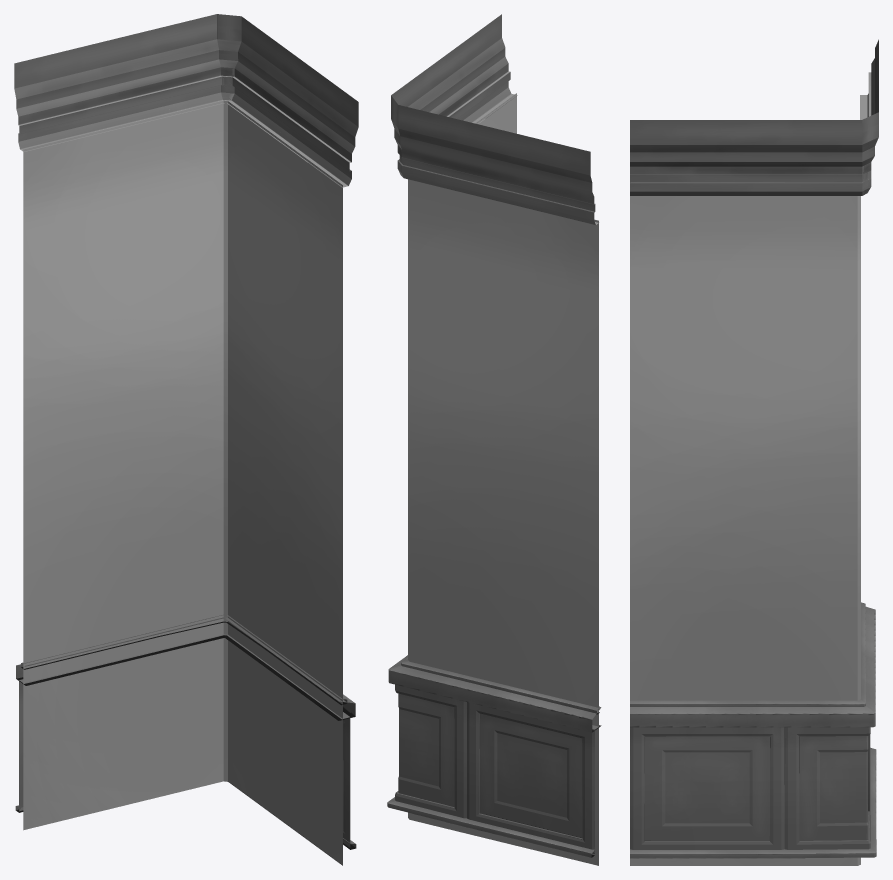
The model's file is Wall_Panel90Out.fbx.
3 views of the same model, side by side, from view 1: azimuth 30°, elevation 25°; view 2: azimuth 150°, elevation 25°; view 3: azimuth 270°, elevation 25° (orthographic). The views are drawn at different scales.
Parts seen in each view (by area): view 1: Wall_Panel90Out; view 2: Wall_Panel90Out; view 3: Wall_Panel90Out.
Part boxes in pixels (x1,y1,x2,y2): Wall_Panel90Out: [14, 14, 358, 865]; Wall_Panel90Out: [387, 14, 601, 865]; Wall_Panel90Out: [630, 39, 878, 865].
Size of the model in its own units: 163 by 540 by 162.
